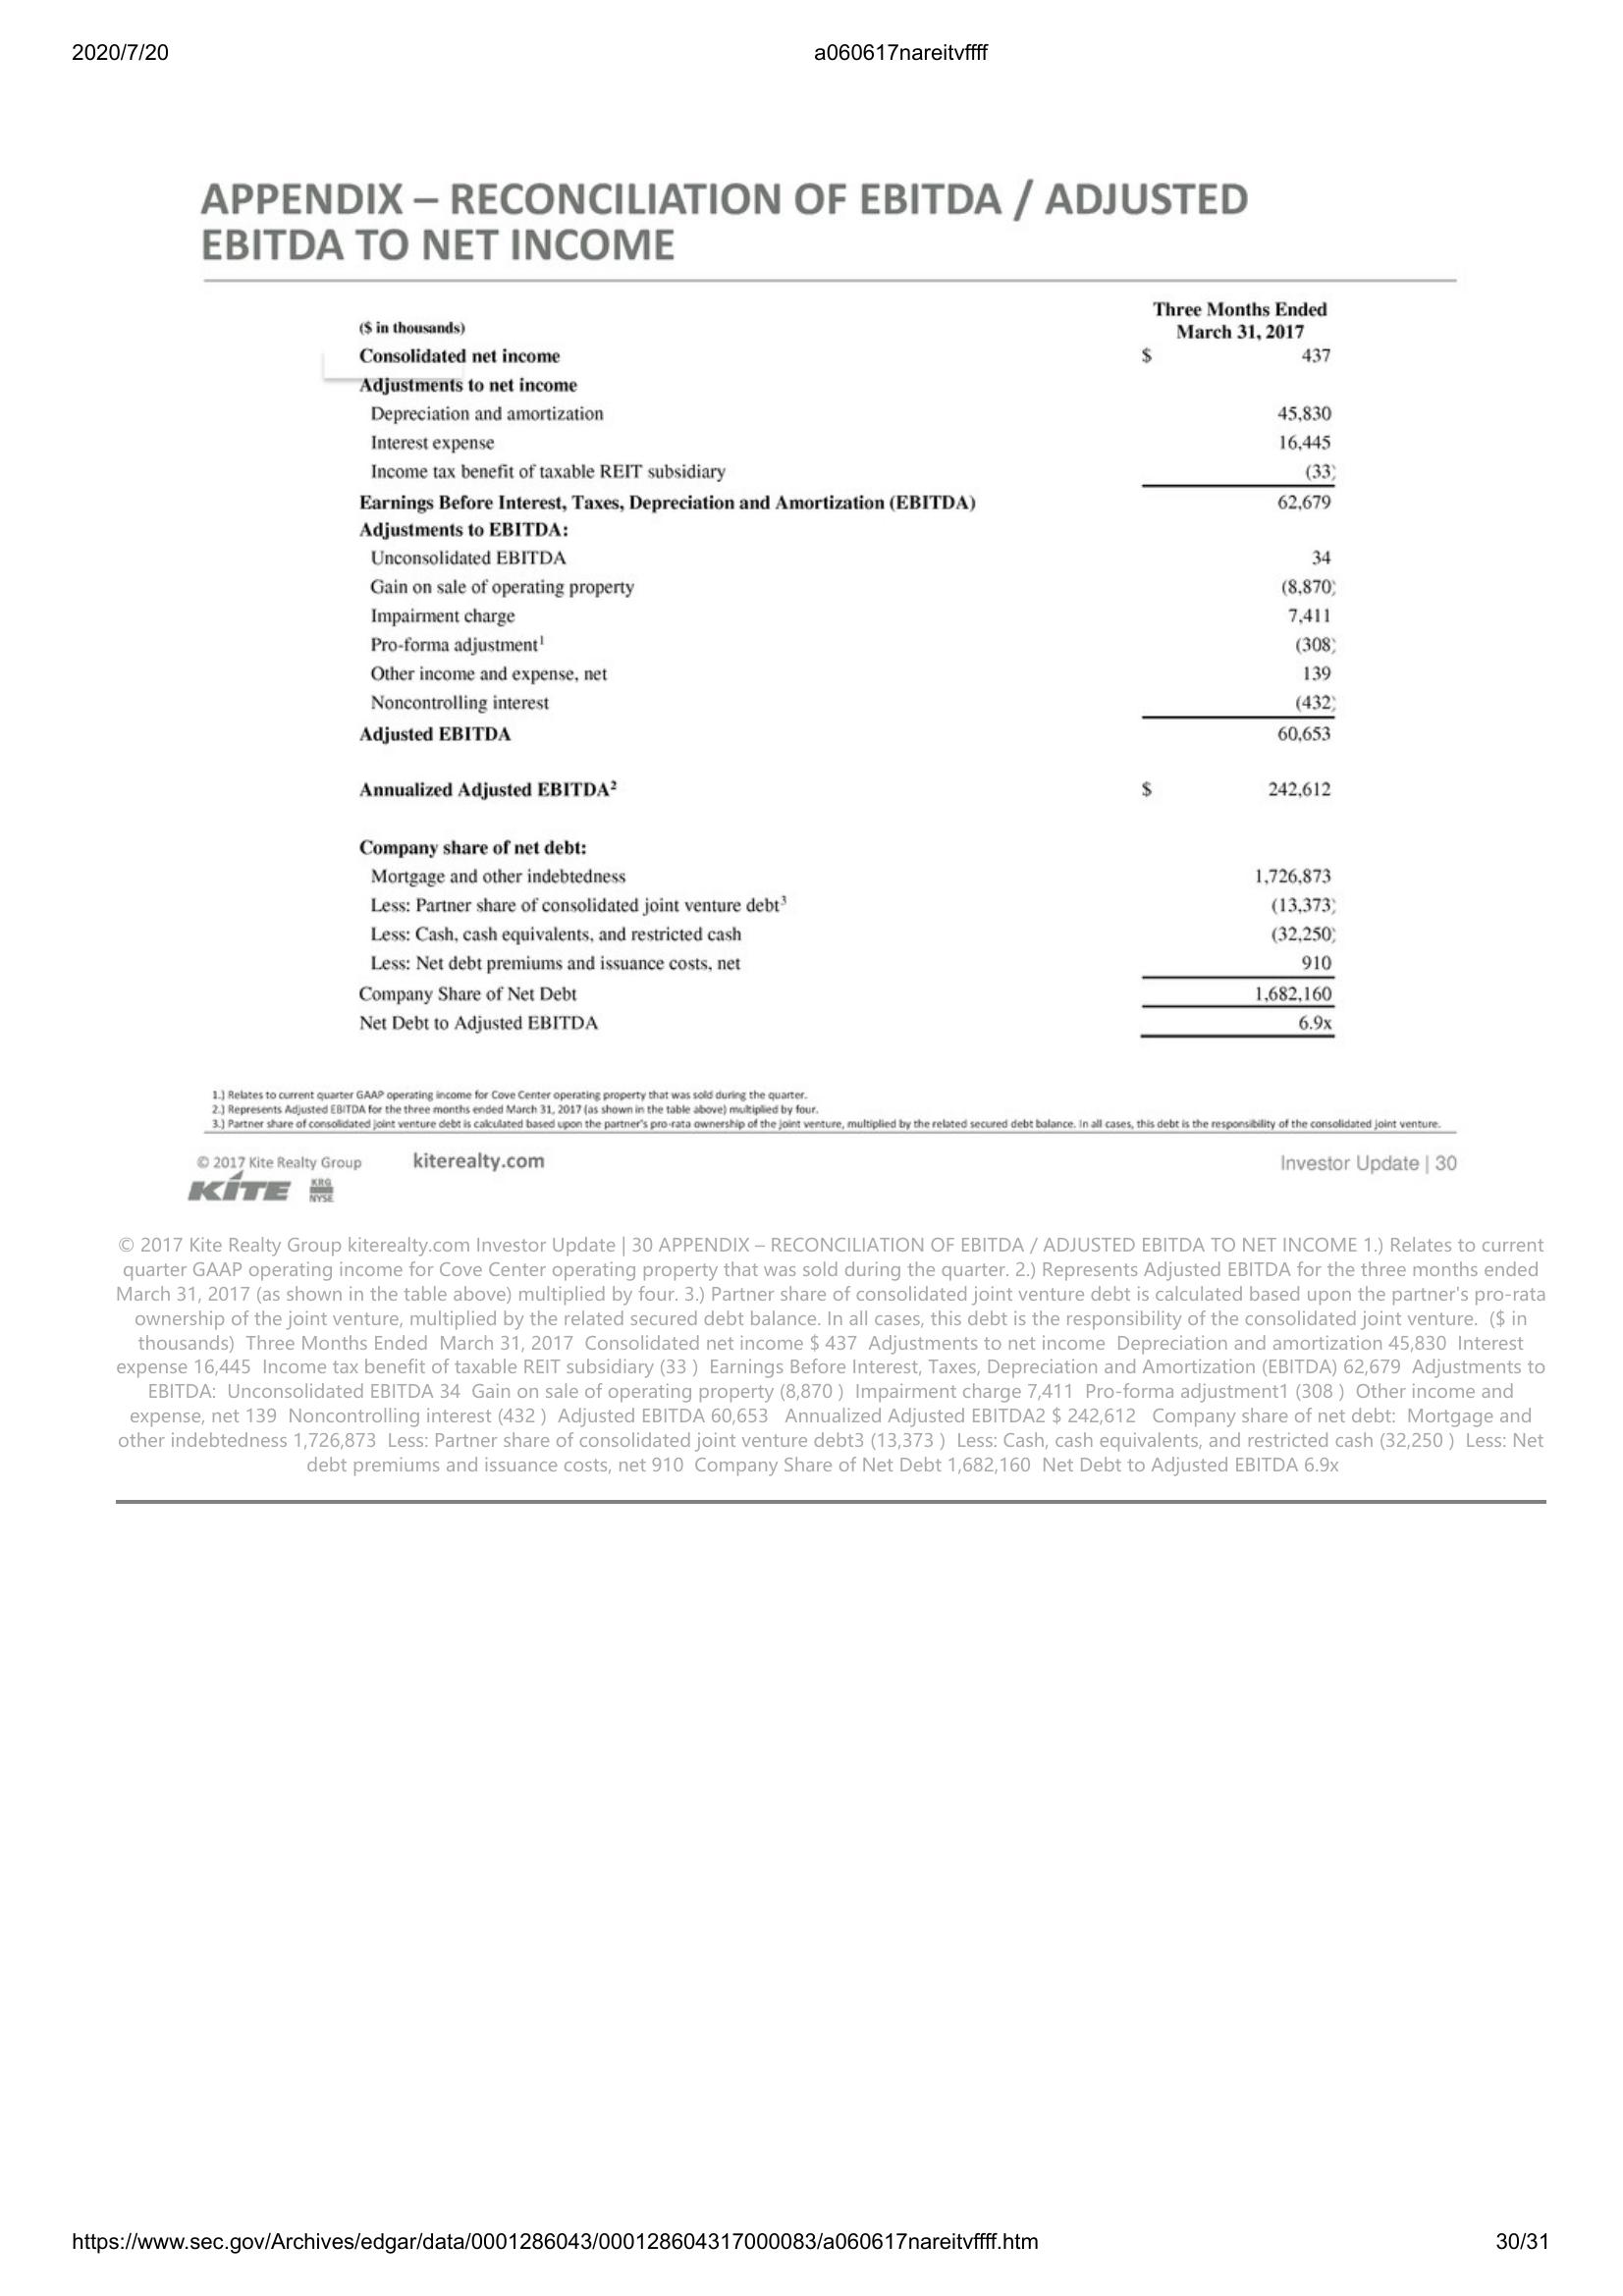table: (321, 297, 1349, 1043)
